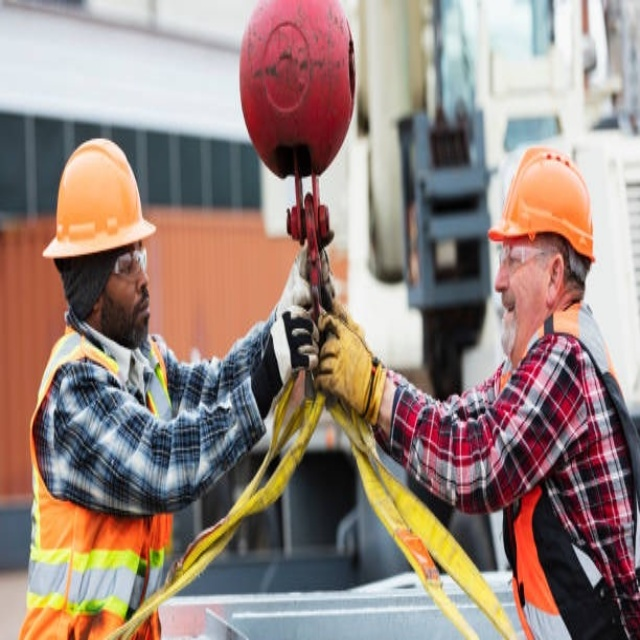Gafas: (494, 239, 555, 275), (109, 243, 148, 281)
Guantes: (314, 304, 388, 424), (249, 303, 316, 423)
Sin_mascara: (498, 283, 529, 351), (130, 287, 151, 338)
